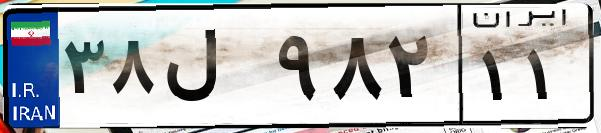1: (475, 38, 525, 113), (525, 38, 570, 115)
2: (385, 28, 445, 110)
3: (57, 26, 110, 100)
8: (330, 28, 385, 110), (110, 28, 158, 98)
9: (270, 28, 330, 110)
ل: (158, 20, 270, 120)
